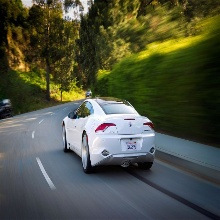no damage: (62, 97, 156, 174)
